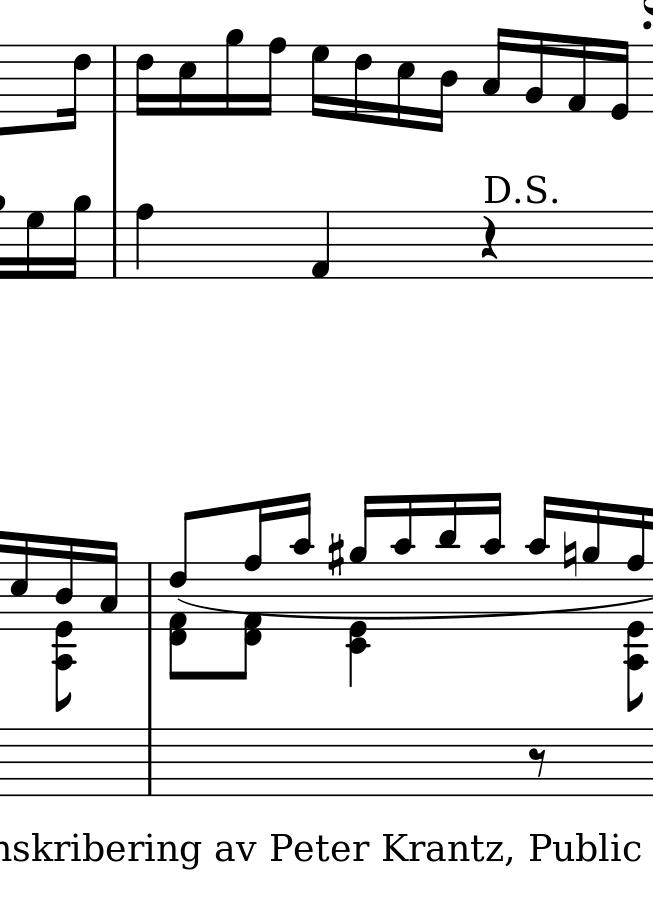16_0: (607, 36, 631, 123)
16_1: (564, 32, 589, 116)
16_10: (526, 494, 555, 631), (289, 491, 313, 632), (392, 494, 414, 631), (481, 492, 502, 630)
16_11: (436, 493, 459, 630)
16_2: (523, 29, 545, 113)
16_3: (481, 26, 509, 114), (395, 42, 416, 132), (98, 542, 119, 631)
16_4: (432, 42, 459, 134), (55, 535, 76, 630)
16_5: (9, 533, 31, 632), (176, 43, 198, 118)
16_6: (59, 42, 92, 132), (352, 41, 373, 126), (134, 42, 154, 119)
16_7: (309, 42, 330, 121), (23, 207, 44, 282)
16_8: (243, 500, 272, 630), (257, 37, 287, 118)
16_9: (349, 494, 376, 631), (581, 499, 601, 631), (62, 195, 90, 280), (223, 23, 244, 122)
4_-2_0: (347, 562, 370, 688)
4_1: (309, 211, 331, 280)
4_8: (134, 201, 155, 280)
8_6: (170, 509, 195, 630)
Natural: (562, 528, 579, 580)
Rests4: (478, 214, 501, 262)
Rests8: (527, 746, 550, 778)
Sharp: (326, 531, 346, 580)
Single_barline: (141, 563, 158, 629), (107, 211, 124, 276), (107, 45, 122, 114), (142, 729, 157, 794)
